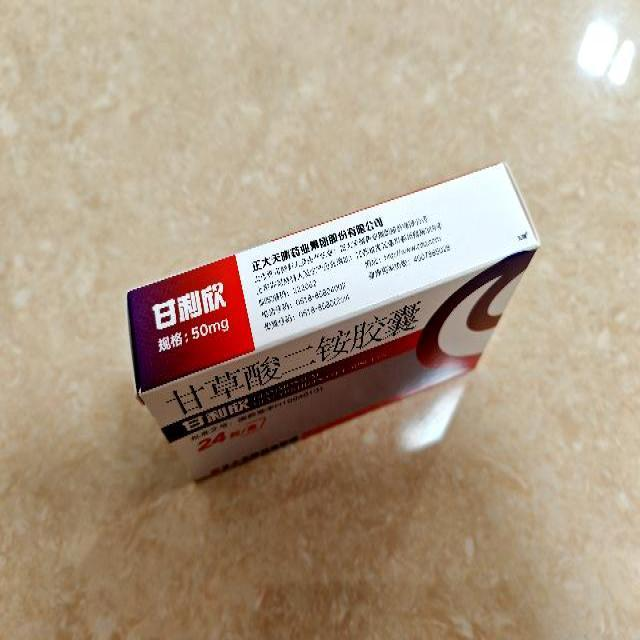box: (125, 162, 542, 482)
